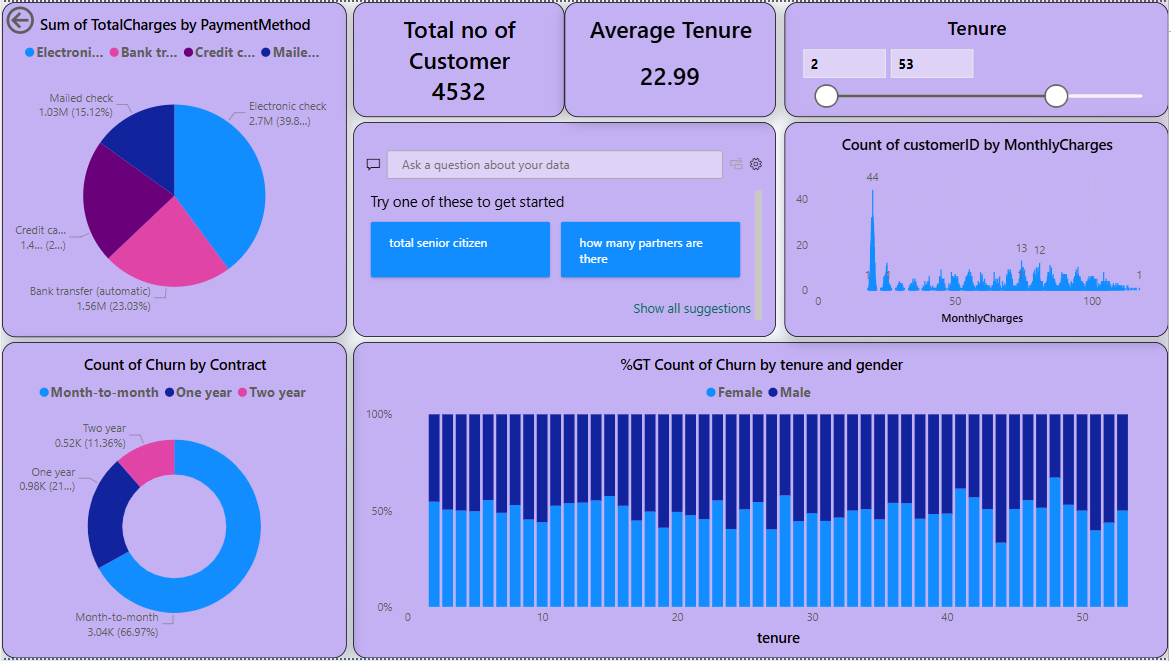

The dashboard page shown, as its layout file describes it:
{"tool":"powerbi","page":{"name":"Page 1","canvas":[1280,720],"ordinal":0},"visuals":[{"type":"slicer","title":"Tenure","fields":{"Values":["WA_Fn-UseC_-Telco-Customer-Churn.tenure"]},"box":[859,0,421.3,126.2],"z":1000},{"type":"hundredPercentStackedColumnChart","fields":{"Y":["CountNonNull(WA_Fn-UseC_-Telco-Customer-Churn.Churn)"],"Series":["WA_Fn-UseC_-Telco-Customer-Churn.gender"],"Category":["WA_Fn-UseC_-Telco-Customer-Churn.tenure"]},"box":[385.6,373.2,894.7,347.2],"z":2000},{"type":"pieChart","fields":{"Category":["WA_Fn-UseC_-Telco-Customer-Churn.PaymentMethod"],"Y":["Sum(WA_Fn-UseC_-Telco-Customer-Churn.TotalCharges)"]},"box":[0,0,378.7,367.8],"z":3000},{"type":"card","title":"Total no of Customer","fields":{"Values":["CountNonNull(WA_Fn-UseC_-Telco-Customer-Churn.customerID)"]},"box":[385.6,0,231.9,126.2],"z":4000},{"type":"donutChart","fields":{"Y":["CountNonNull(WA_Fn-UseC_-Telco-Customer-Churn.Churn)"],"Category":["WA_Fn-UseC_-Telco-Customer-Churn.Contract"]},"box":[0,373.2,378.7,347.2],"z":5000},{"type":"actionButton","box":[0,0,100,40],"z":6000},{"type":"clusteredColumnChart","fields":{"Y":["CountNonNull(WA_Fn-UseC_-Telco-Customer-Churn.customerID)"],"Category":["WA_Fn-UseC_-Telco-Customer-Churn.MonthlyCharges"]},"box":[859,131.7,421.3,236],"z":7000},{"type":"qnaVisual","box":[385.6,131.7,463.8,236],"z":8000},{"type":"card","title":"Average Tenure","fields":{"Values":["Avg(WA_Fn-UseC_-Telco-Customer-Churn.tenure)"]},"box":[617.5,0,231.9,126.2],"z":9000}]}

Visuals, with their boxes in screenshot pixels (x1, y1, x2, y2), scaled from the page's 1280x720 canvas onto the 1171x661 screenshot:
"Tenure" slicer: 786,0,1170,116
hundredPercentStackedColumnChart - CountNonNull(WA_Fn-UseC_-Telco-Customer-Churn.Churn) x WA_Fn-UseC_-Telco-Customer-Churn.gender: 353,343,1170,660
pieChart - WA_Fn-UseC_-Telco-Customer-Churn.PaymentMethod x Sum(WA_Fn-UseC_-Telco-Customer-Churn.TotalCharges): 0,0,346,338
"Total no of Customer" card: 353,0,565,116
donutChart - CountNonNull(WA_Fn-UseC_-Telco-Customer-Churn.Churn) x WA_Fn-UseC_-Telco-Customer-Churn.Contract: 0,343,346,660
actionButton: 0,0,91,37
clusteredColumnChart - CountNonNull(WA_Fn-UseC_-Telco-Customer-Churn.customerID) x WA_Fn-UseC_-Telco-Customer-Churn.MonthlyCharges: 786,121,1170,338
qnaVisual: 353,121,777,338
"Average Tenure" card: 565,0,777,116
